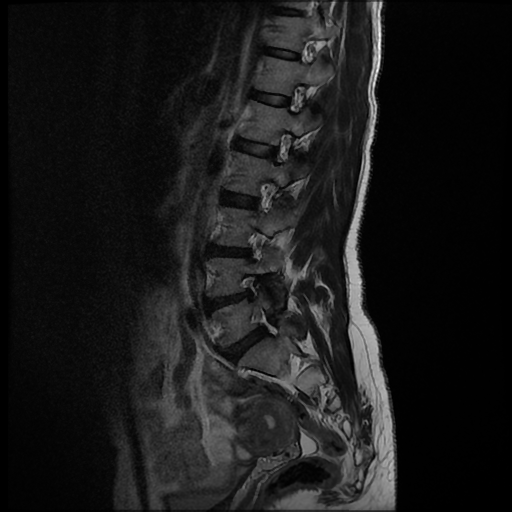RFS0: (243, 173, 282, 218), (262, 122, 297, 170), (238, 223, 275, 267)
RFS1: (227, 267, 272, 307)
